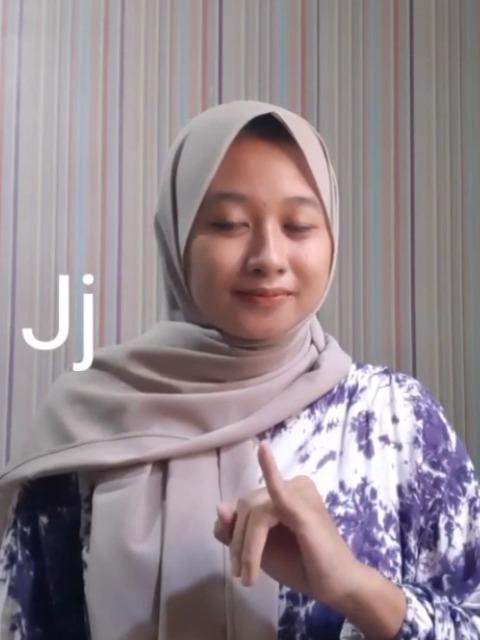J: (210, 448, 366, 600)
